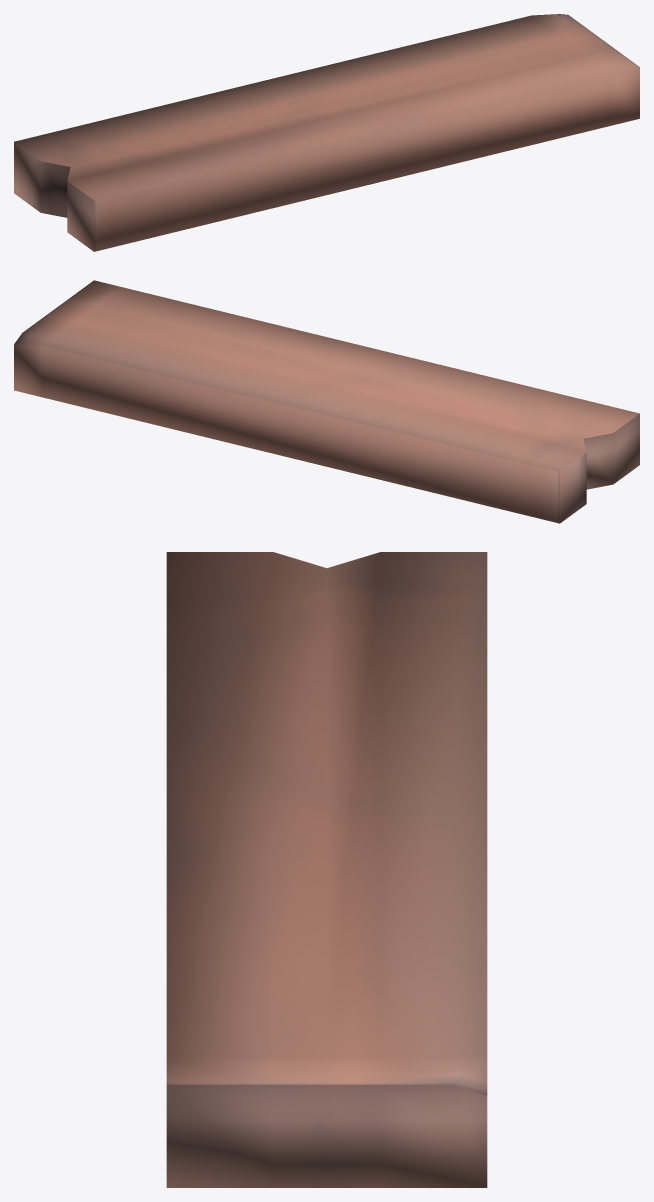
File: Wood.fbx
The picture shows the model from 3 angles, top to bottom: view 1: azimuth 30°, elevation 25°; view 2: azimuth 150°, elevation 25°; view 3: azimuth 270°, elevation 25°; orthographic projection. The views are drawn at different scales.
Visible parts, largest first — view 1: Wood; view 2: Wood; view 3: Wood.
Part boxes in pixels (box(x1,y1,x2,y2)): Wood: box(14, 14, 639, 251); Wood: box(14, 280, 639, 523); Wood: box(166, 552, 487, 1187).
Size of the model in its own units: 125 by 11.32 by 31.87.
